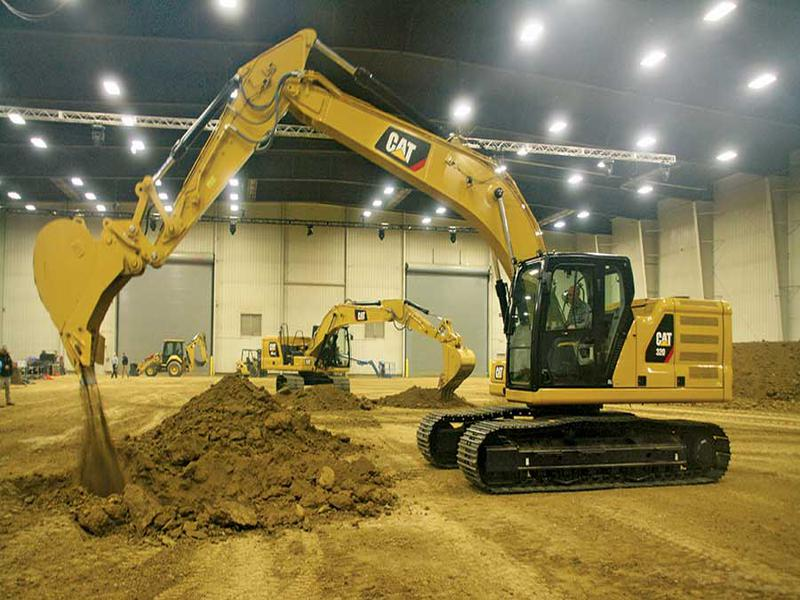shovel: (29, 24, 742, 500)
